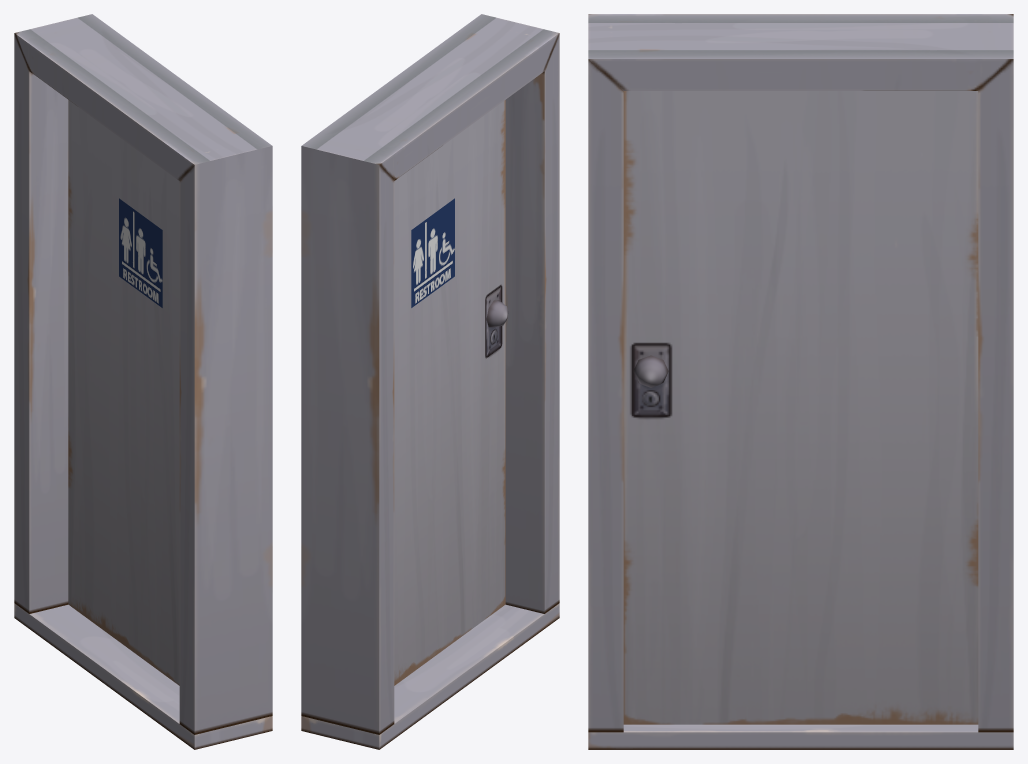
Rendered from door17.FBX.
The picture shows the model from 3 angles, left to right: view 1: azimuth 30°, elevation 25°; view 2: azimuth 150°, elevation 25°; view 3: azimuth 270°, elevation 25°; orthographic projection. The views are drawn at different scales.
Visible parts, largest first — view 1: door17_frame, door017, door17_restroomSign; view 2: door17_frame, door017, door17_restroomSign; view 3: door017, door17_frame.
Boxes of the visible parts, bbox=[...] form: door17_frame: bbox=[14, 14, 272, 749]; door017: bbox=[68, 100, 179, 685]; door17_restroomSign: bbox=[119, 198, 162, 307]; door17_frame: bbox=[301, 14, 559, 749]; door017: bbox=[394, 100, 508, 685]; door17_restroomSign: bbox=[411, 198, 454, 307]; door017: bbox=[623, 91, 978, 724]; door17_frame: bbox=[588, 14, 1013, 749].
Size of the model in its own units: 30 by 215 by 120.
